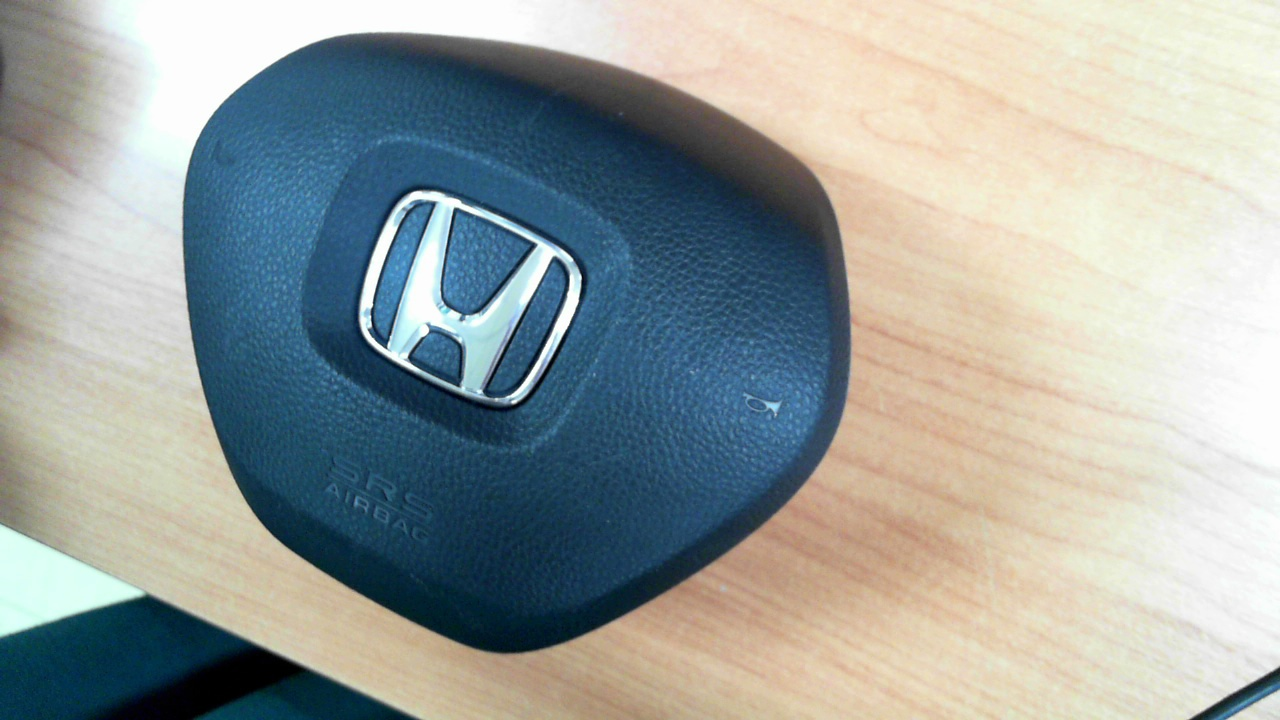Airbag: (182, 33, 853, 654)
Honda: (358, 189, 583, 407)
